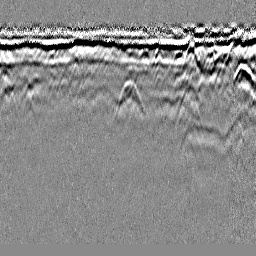cavity: (111, 79, 149, 124)
